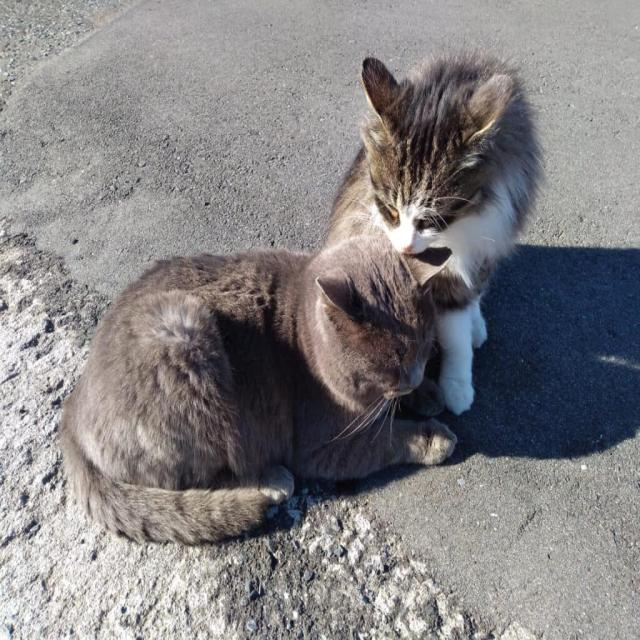cat: (60, 237, 456, 544), (328, 50, 542, 414)
